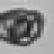correct: (0, 3, 48, 47)
